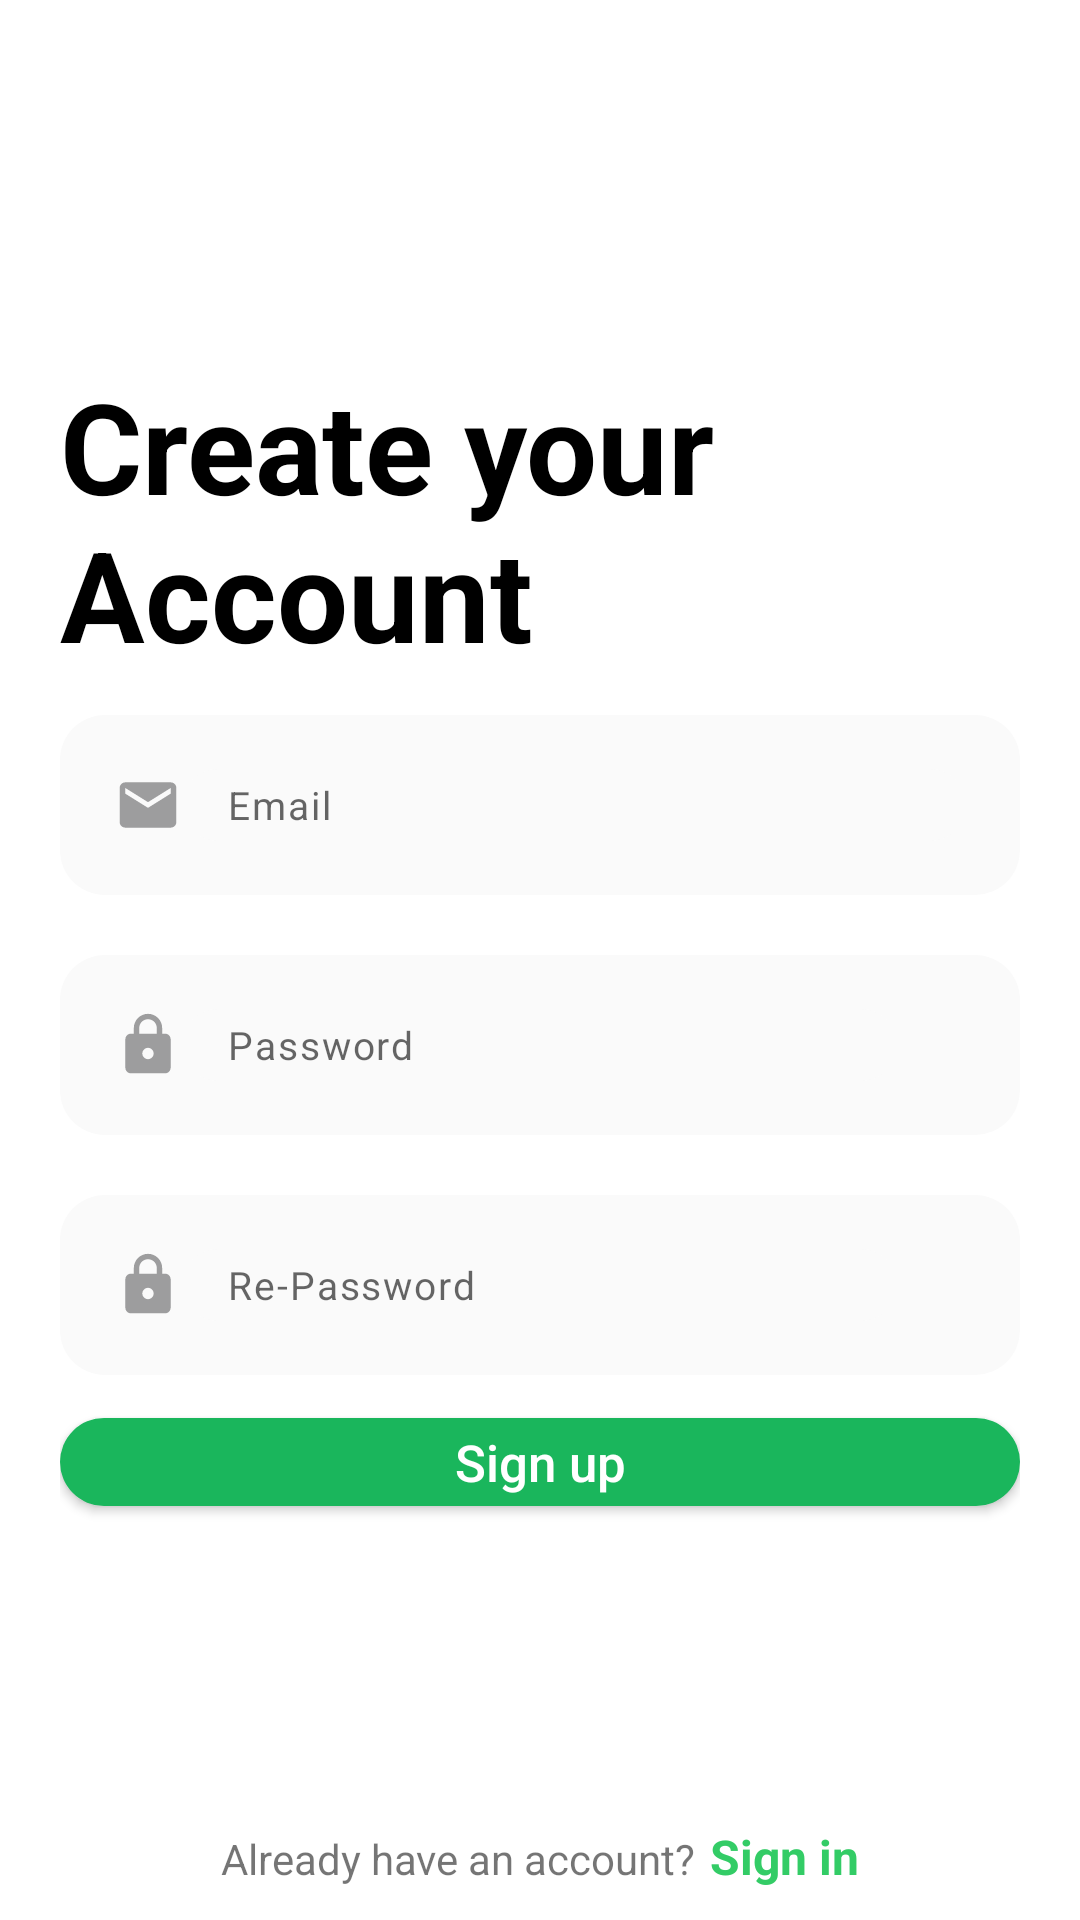

Named icons in this screenshot (1080px x 1920px) and their centers, [x,y]:
lock: [148,1043], [148,1283]
